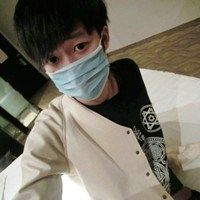face_mask: (44, 12, 106, 98)
